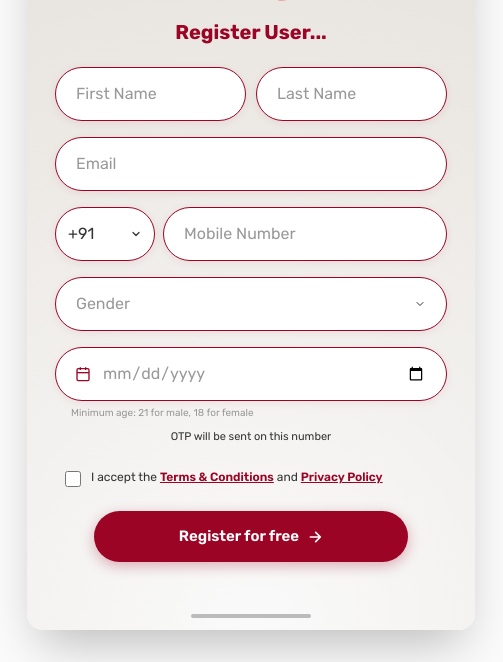
Test: RegisterUser – Step 1 form › shows terms error when terms are not accepted
This screenshot has width=503, height=662.
(page scrolled)
Type "Rahul" into the field with placeholder "First Name" at (150, 94), box [55,67,246,121]
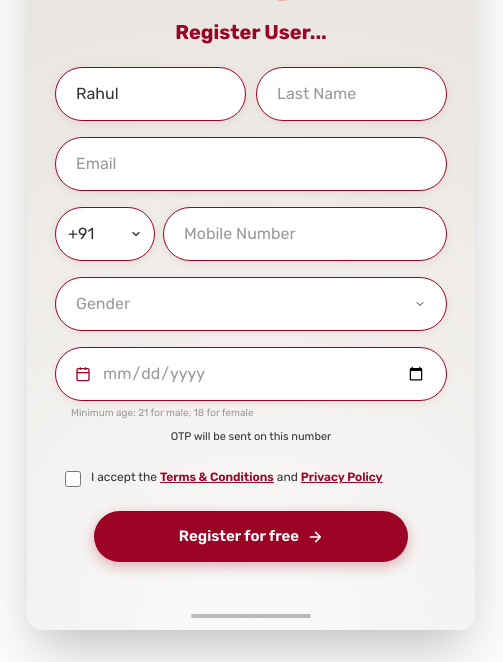
Type "Sharma" into the field with placeholder "Last Name" at (352, 94), box [256,67,447,121]
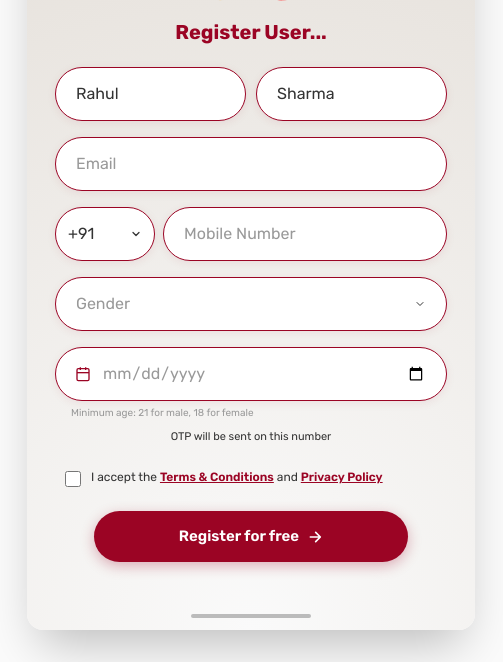
Type "9876543210" into the field with placeholder "Mobile Number" at (305, 234), box [163,207,447,261]
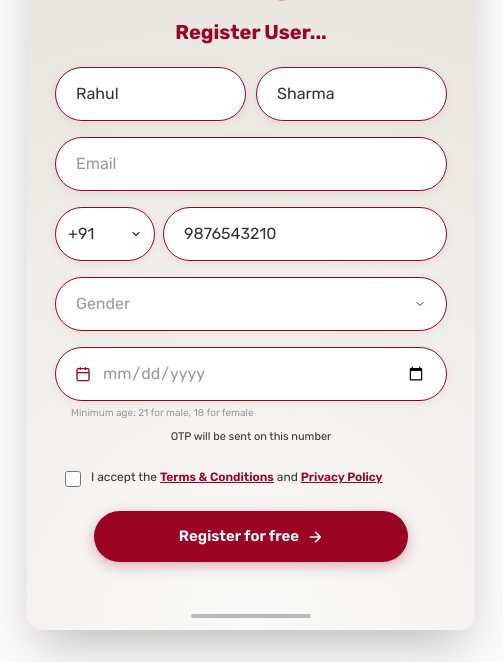
# Select gender
Select "Male" in the dropdown at (251, 304), box [55,277,447,331]
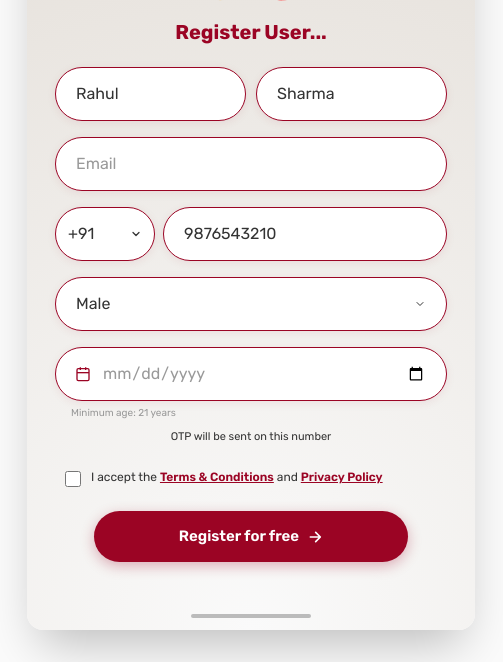
# Set DOB using querySelector
Type "2000-01-01" into the date field with placeholder "DD-MM-YYYY" at (251, 374), box [55,347,447,401]
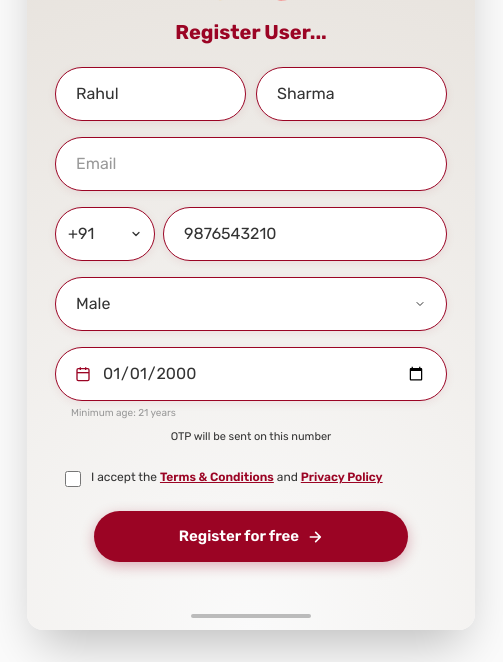
Click the button "Register for free" at (251, 537), box [94,511,408,562]
(page scrolled)
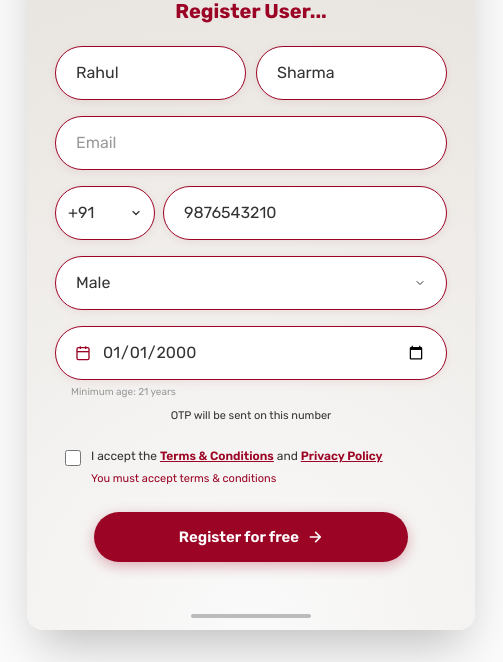
Result: the text "You must accept terms & conditions" is shown at [91,472,276,485]
